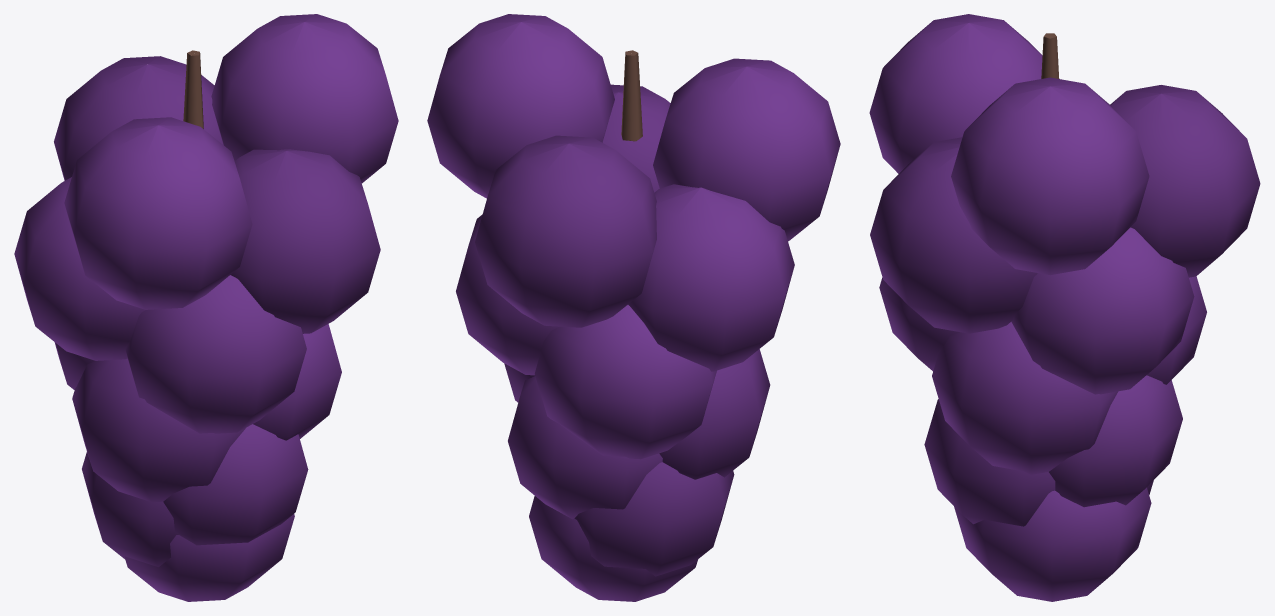
The model's file is fruit-grape-plain.gltf.
The picture shows the model from 3 angles, left to right: view 1: azimuth 30°, elevation 25°; view 2: azimuth 150°, elevation 25°; view 3: azimuth 270°, elevation 25°; orthographic projection. The views are drawn at different scales.
Size of the model in its own units: 0.2843 by 0.4167 by 0.2647.
